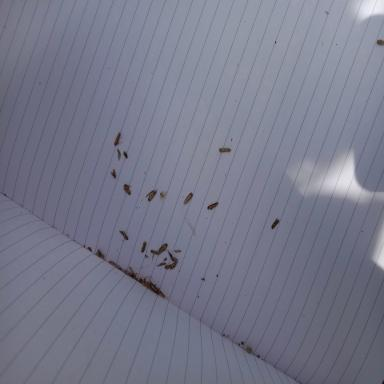pbw: (124, 267, 138, 280), (113, 131, 123, 147), (157, 242, 168, 255), (148, 280, 158, 294), (147, 189, 157, 202), (183, 192, 193, 205), (140, 240, 148, 254), (119, 228, 128, 240), (218, 146, 231, 154), (157, 287, 166, 298), (271, 218, 280, 229), (207, 202, 219, 210), (170, 258, 178, 270), (123, 184, 131, 194), (150, 248, 159, 256), (168, 250, 174, 262), (97, 249, 104, 259), (156, 262, 167, 267), (376, 39, 384, 45), (164, 264, 172, 270), (173, 249, 182, 254), (112, 168, 116, 179)
